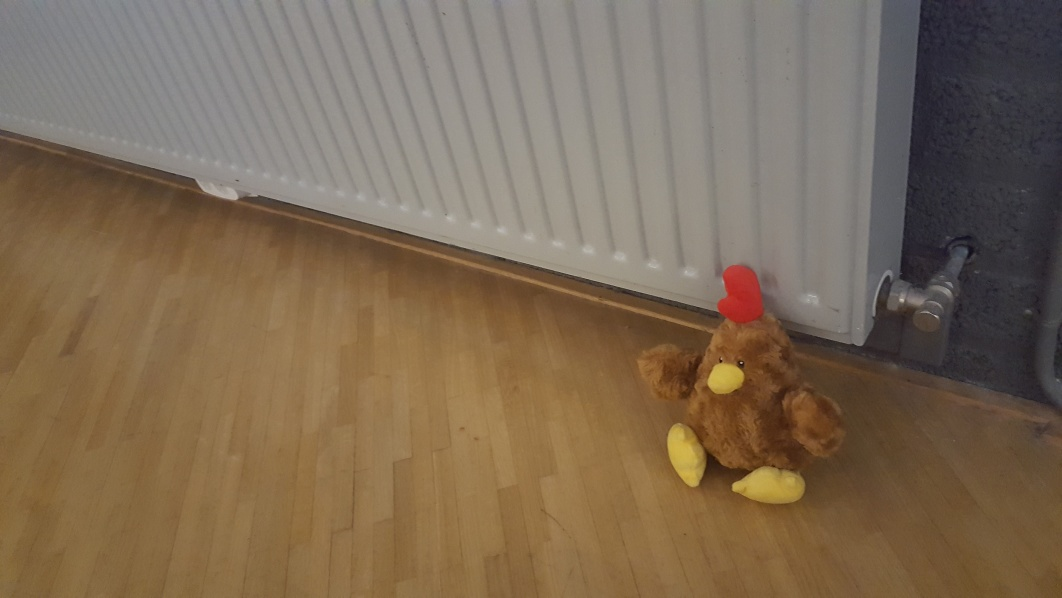chicken: (640, 263, 849, 505)
